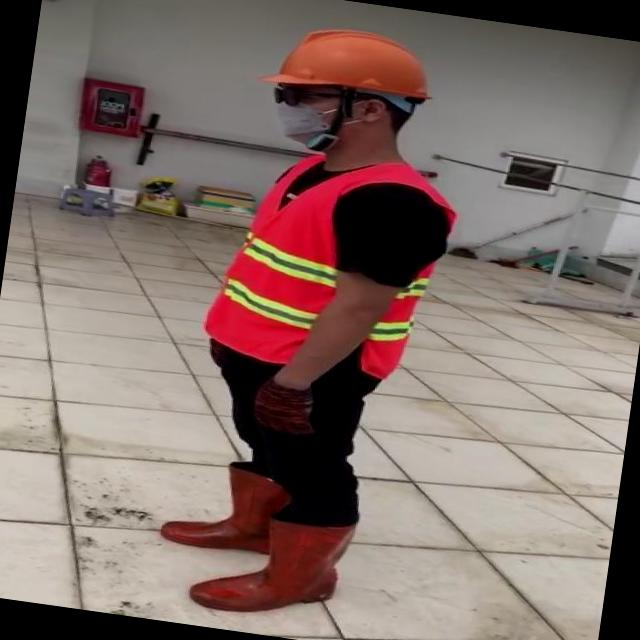boots: (186, 500, 357, 629), (160, 456, 280, 557)
gloves: (241, 334, 348, 454)
helmet: (275, 18, 449, 106)
vest: (197, 144, 470, 386)
